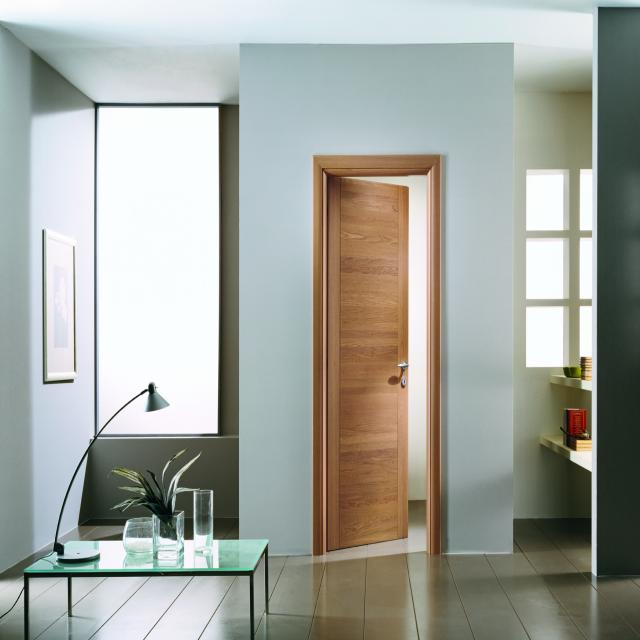open: (316, 158, 438, 562)
